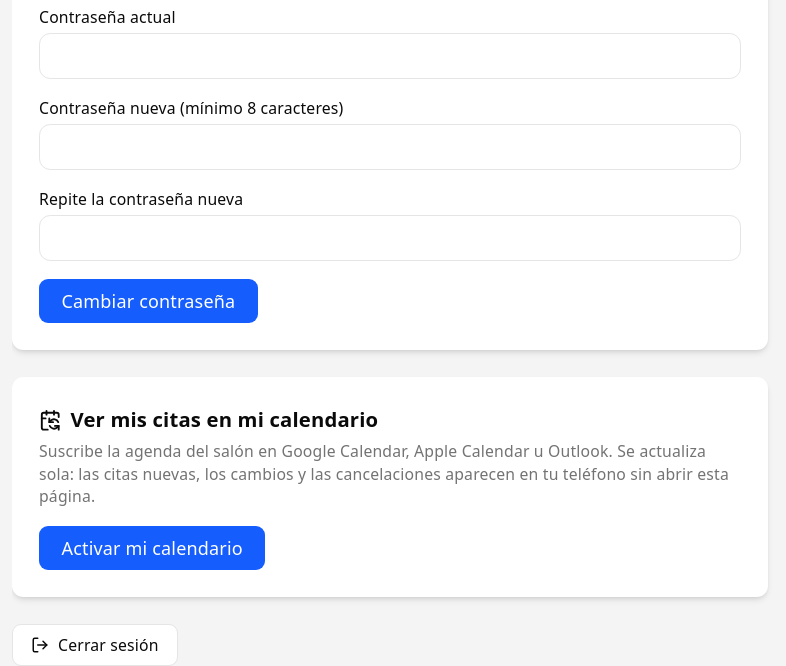
Test: Mi perfil › calendario suscrito › activar muestra el enlace una sola vez, con instrucciones para Google, iPhone y Outlook
This screenshot has width=786, height=666.
(page scrolled)
Click the button "Activar mi calendario". click: click(152, 548)
box: [39,526,265,570]
(page scrolled)
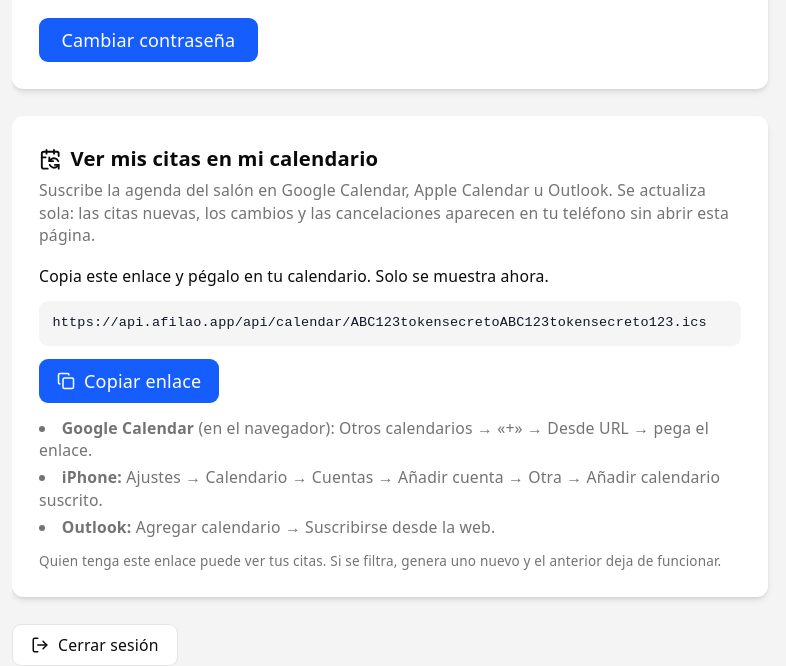
Expected: the text with test id "enlace-calendario" shows "https://api.afilao.app/api/calendar/ABC123tokensecreto", [52,315,707,330]
Expected: the list item "Otros calendarios" is shown, [39,417,709,461]
Expected: the list item "Añadir calendario suscrito" is shown, [39,466,720,511]
